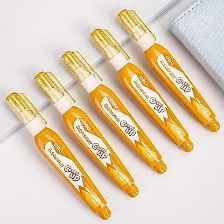correction_fluid: (3, 89, 113, 221), (59, 48, 169, 177), (31, 69, 140, 199), (87, 25, 195, 154), (115, 7, 221, 135)
